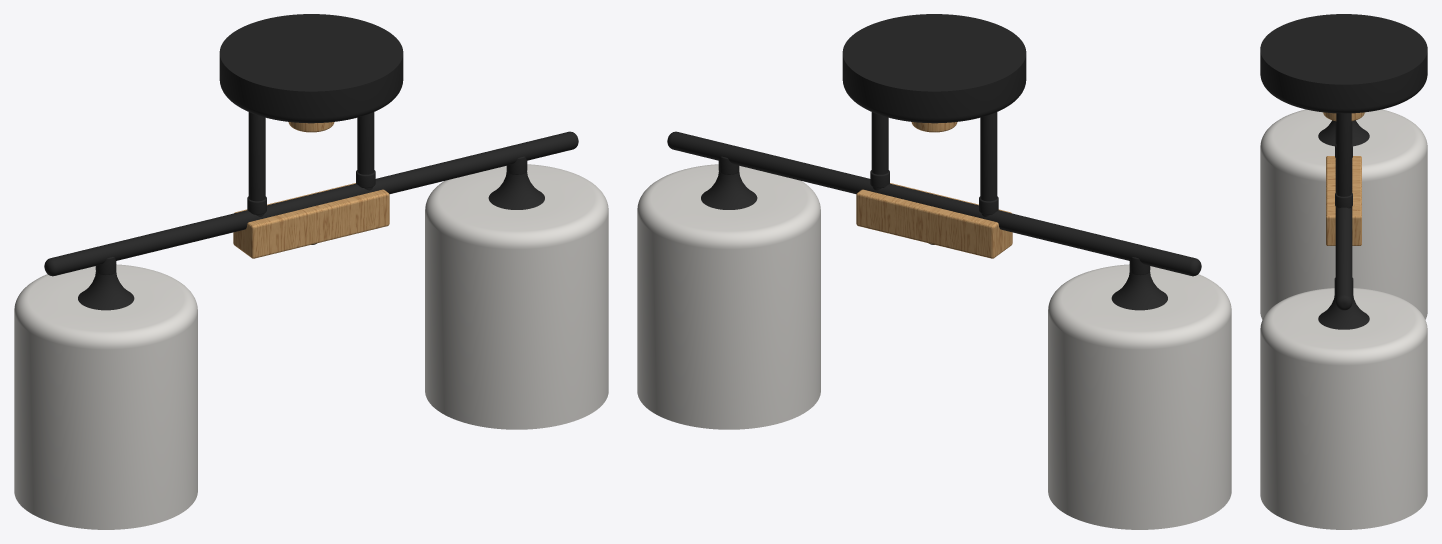
The picture shows the model from 3 angles, left to right: view 1: azimuth 30°, elevation 25°; view 2: azimuth 150°, elevation 25°; view 3: azimuth 270°, elevation 25°; orthographic projection. The views are drawn at different scales.
Visible parts, largest first — view 1: glass, frame, wood; view 2: glass, frame, wood; view 3: glass, frame, wood.
Boxes of the visible parts, x1,y1,x2,y2 form: glass: (14, 164, 608, 529); frame: (44, 14, 578, 310); wood: (233, 122, 389, 258); glass: (637, 164, 1231, 529); frame: (667, 14, 1201, 310); wood: (856, 122, 1012, 258); glass: (1260, 109, 1427, 529); frame: (1260, 14, 1427, 329); wood: (1323, 112, 1364, 245).
Bounding box in the file's own units: 0.43 × 0.28 × 0.12.
Materials: 6 (1 with a texture image).
